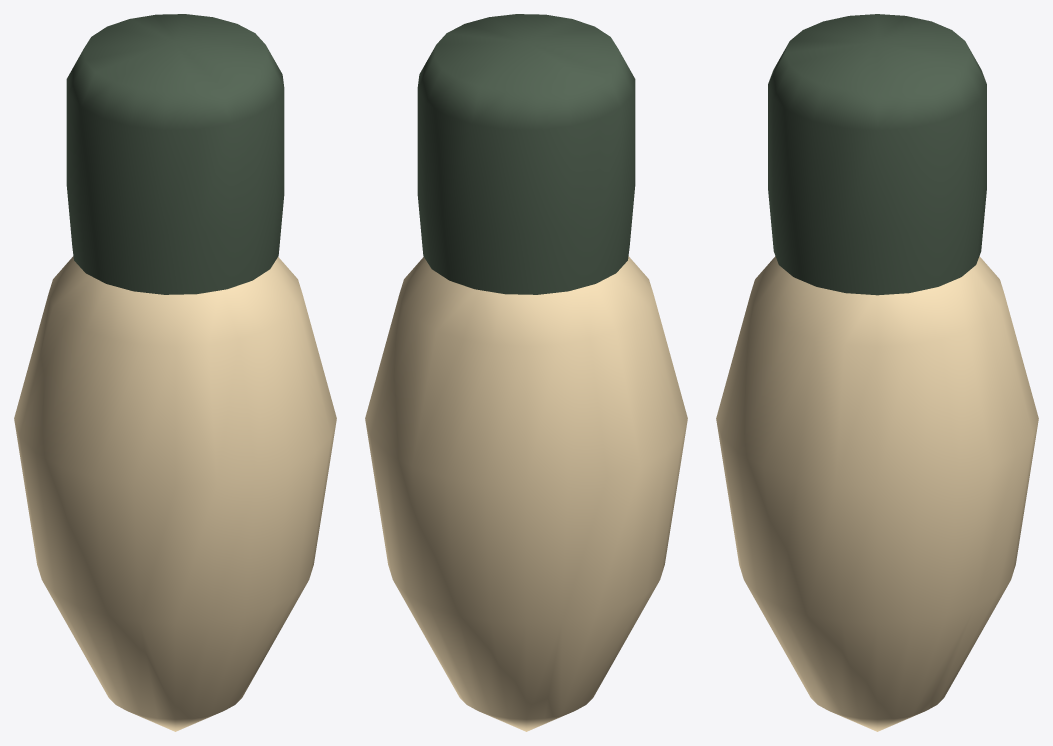
Rendered from lp_xmas_bulb.glb.
3 views of the same model, side by side, from view 1: azimuth 30°, elevation 25°; view 2: azimuth 150°, elevation 25°; view 3: azimuth 270°, elevation 25° (orthographic).
Parts seen in each view (by area): view 1: lp_xmas_bulb; view 2: lp_xmas_bulb; view 3: lp_xmas_bulb.
Boxes of the visible parts, left/top/right/bottom form: lp_xmas_bulb: left=14, top=14, right=336, bottom=731; lp_xmas_bulb: left=365, top=14, right=687, bottom=731; lp_xmas_bulb: left=716, top=14, right=1038, bottom=731.
Bounding box in the file's own units: 0.028 × 0.066 × 0.028.
